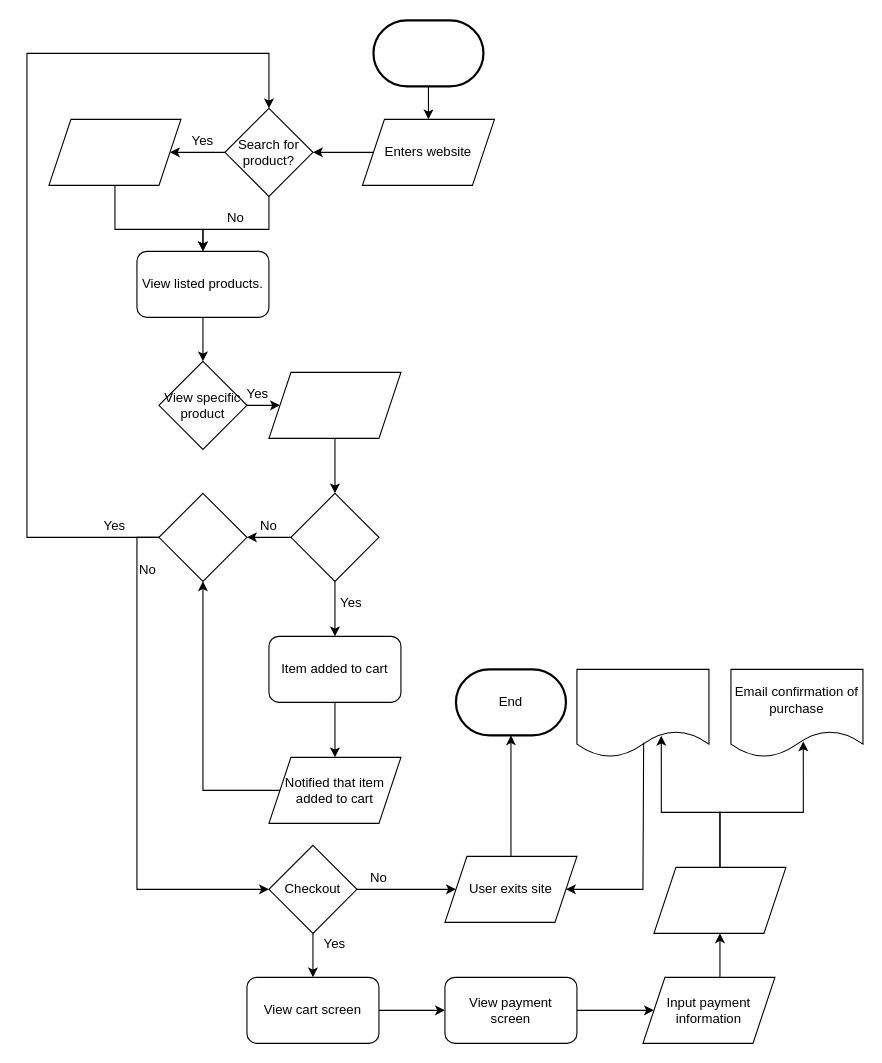
This 882x1063 diagram has some shape labels left out. Each missing label, with the centre of its shape:
"Add to cart" belongs at (334,536).
"Confrimation of purchase screen" belongs at (642,712).
"Continue shopping" belongs at (202,536).
"Input for product." belongs at (114,151).
"Open product's webpage" belongs at (334,404).
"Paid" belongs at (719,899).
"Start" belongs at (428,53).
